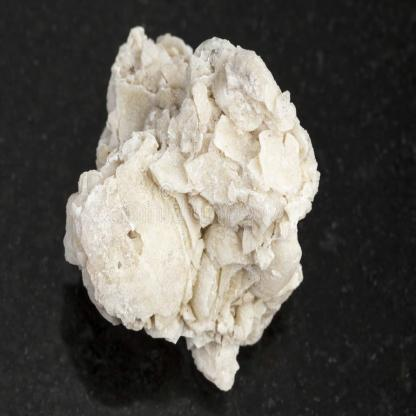Sedimentary_Limestone: (58, 23, 320, 396)
